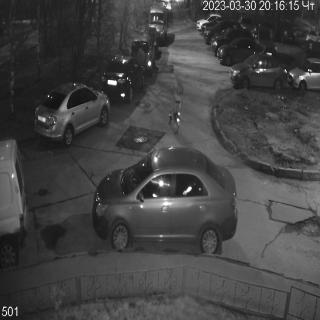Car: (92, 146, 238, 255), (34, 81, 110, 147), (0, 138, 29, 269), (228, 51, 288, 90), (101, 54, 146, 103), (217, 36, 266, 66), (212, 27, 252, 57), (288, 56, 320, 90), (130, 38, 156, 76), (204, 19, 238, 45), (148, 3, 167, 42), (196, 14, 221, 32)
